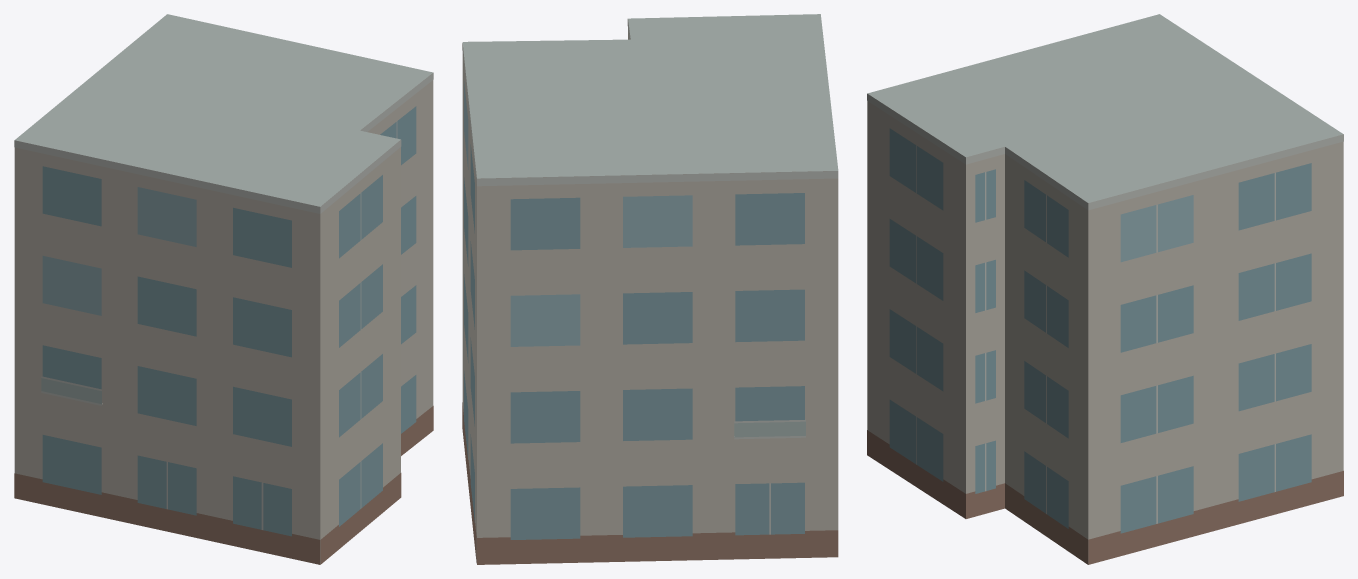
The model's file is survey-upis-32888469.glb.
3 renders of one model, left to right at view 1: azimuth 30°, elevation 25°; view 2: azimuth 150°, elevation 25°; view 3: azimuth 270°, elevation 25°, orthographic. The views are drawn at different scales.
Visible parts, largest first — view 1: survey-upis-32888469.tmp; view 2: survey-upis-32888469.tmp; view 3: survey-upis-32888469.tmp.
Part boxes in pixels (bbox=[...]): survey-upis-32888469.tmp: bbox=[14, 14, 433, 564]; survey-upis-32888469.tmp: bbox=[462, 14, 838, 564]; survey-upis-32888469.tmp: bbox=[867, 14, 1343, 564].
Bounding box in the file's own units: 13.69 × 12.2 × 14.58.
